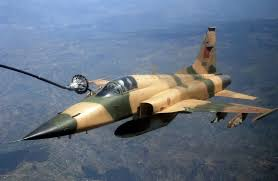fighter: (19, 25, 276, 145)
